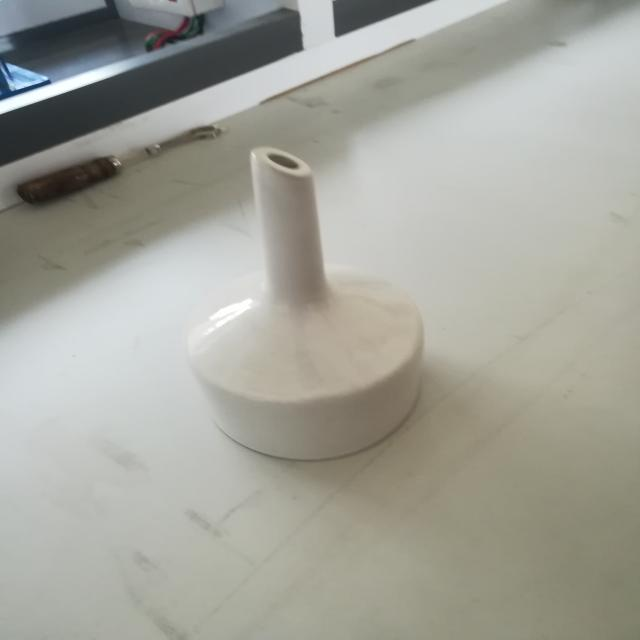Buchner_Funnel: (128, 142, 488, 490)
